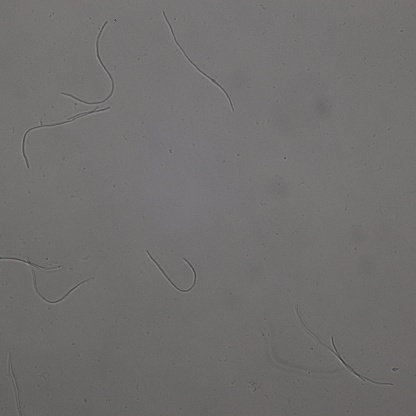Sensitive: (299, 309, 393, 387), (164, 13, 234, 110), (22, 107, 110, 169), (1, 251, 94, 304), (62, 21, 115, 105), (147, 250, 198, 293)
